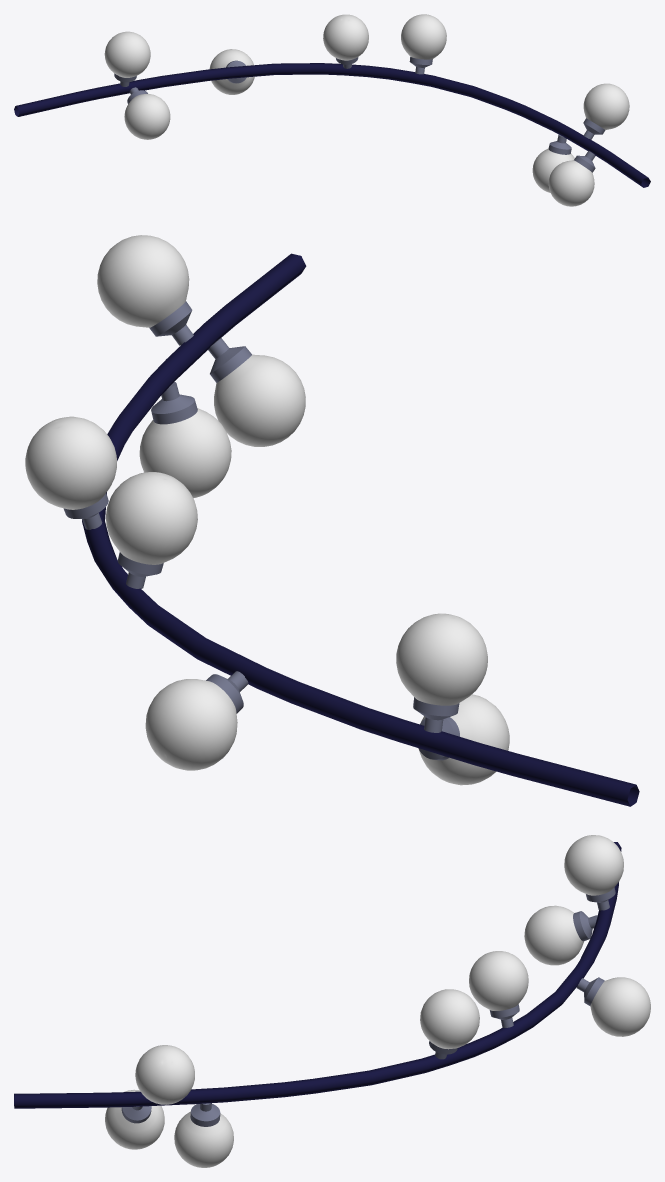
File: Guirlande courbe v2.001.fbx
3 views of the same model, one above another, from view 1: azimuth 30°, elevation 25°; view 2: azimuth 150°, elevation 25°; view 3: azimuth 270°, elevation 25° (orthographic). The views are drawn at different scales.
Parts seen in each view (by area): view 1: BézierCurve; view 2: BézierCurve; view 3: BézierCurve.
Boxes of the visible parts, x1,y1,x2,y2 form: BézierCurve: (14, 14, 650, 206); BézierCurve: (25, 235, 639, 806); BézierCurve: (14, 835, 650, 1167).
Size of the model in its own units: 212 by 219 by 55.5.
